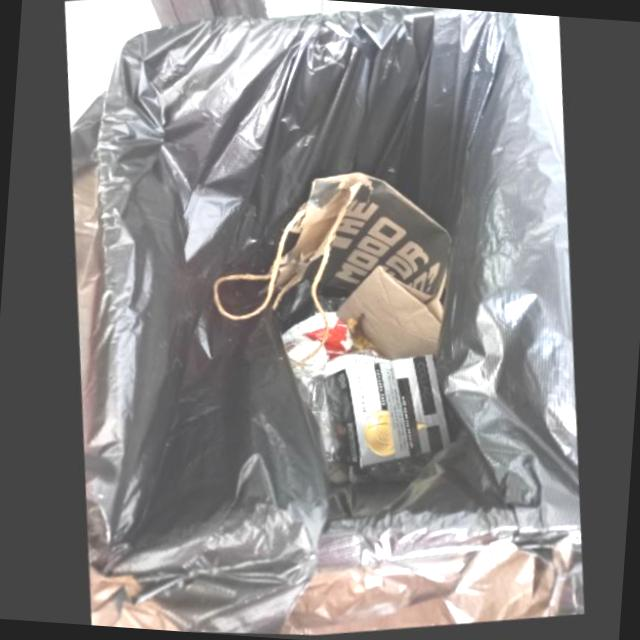carton: (324, 359, 450, 471)
giay: (212, 176, 451, 364)
